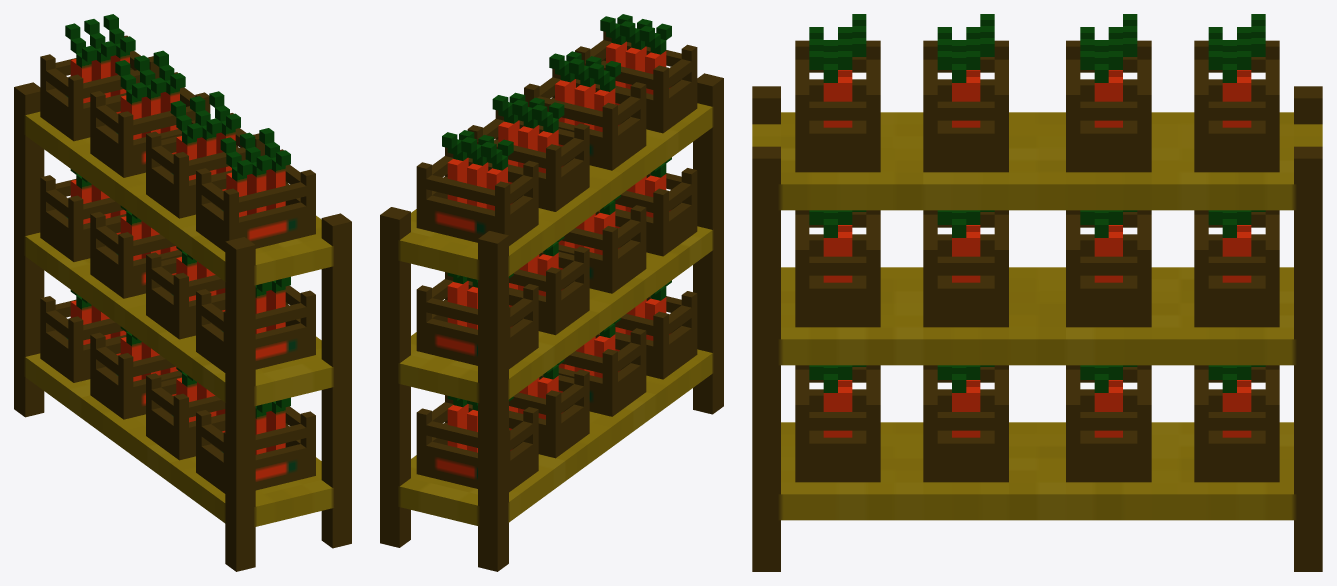
The model's file is chapter2_carrotshelf.fbx.
3 views of the same model, side by side, from view 1: azimuth 30°, elevation 25°; view 2: azimuth 150°, elevation 25°; view 3: azimuth 270°, elevation 25° (orthographic). The views are drawn at different scales.
Visible parts, largest first — view 1: Matrix_130; view 2: Matrix_130; view 3: Matrix_130.
Boxes of the visible parts, x1,y1,x2,y2 form: Matrix_130: [14, 14, 351, 571]; Matrix_130: [380, 14, 723, 571]; Matrix_130: [752, 14, 1322, 571].
Bounding box in the file's own units: 12 × 39 × 40.
